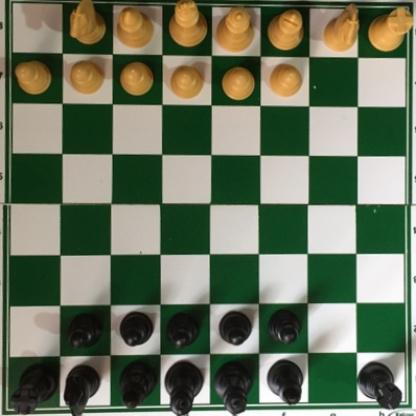black-bishop: (118, 360, 159, 409), (264, 359, 305, 405)
black-king: (163, 361, 204, 415)
black-knight: (62, 363, 101, 415)
black-pawn: (267, 309, 306, 346), (217, 308, 254, 347), (67, 310, 103, 349), (165, 309, 199, 348), (119, 311, 153, 347)
black-queen: (213, 358, 251, 415)
black-rook: (10, 362, 58, 415), (357, 359, 404, 410)
white-bishop: (265, 2, 305, 55), (112, 2, 152, 51)
white-king: (166, 0, 209, 50)
white-knight: (323, 0, 360, 55), (69, 0, 106, 47)
white-pawn: (117, 59, 155, 98), (13, 59, 53, 96), (169, 63, 206, 101), (221, 65, 256, 102), (269, 63, 303, 98), (69, 61, 105, 94)
white-queen: (214, 2, 257, 54)
white-rook: (367, 5, 415, 55)
